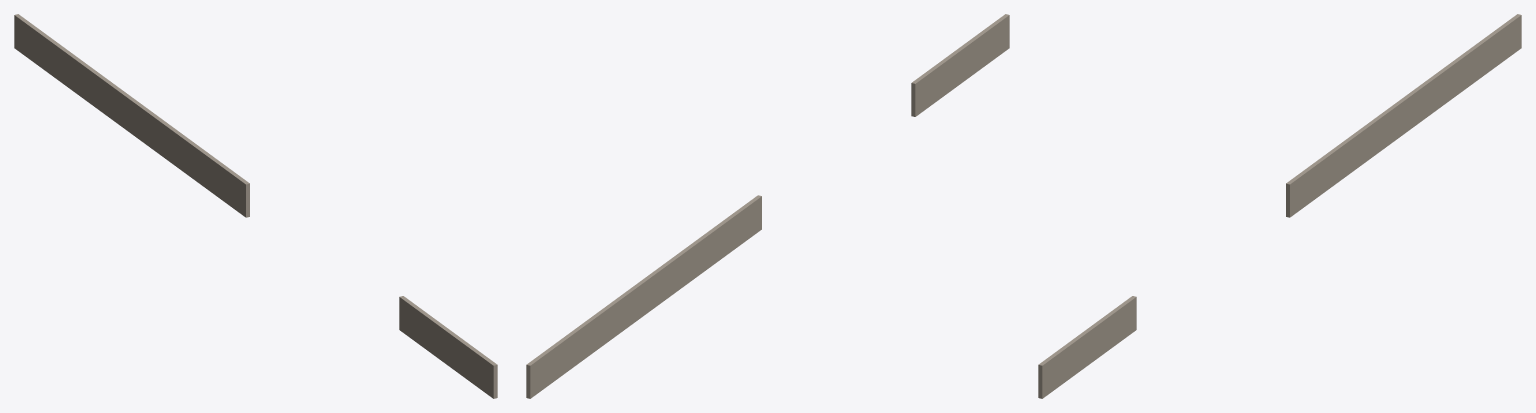
File: SM_Skirting_Bath_East_001.fbx
3 renders of one model, left to right at view 1: azimuth 30°, elevation 25°; view 2: azimuth 150°, elevation 25°; view 3: azimuth 330°, elevation 25°, orthographic.
Parts seen in each view (by area): view 1: SM_Skirting_Bath_East_001; view 2: SM_Skirting_Bath_East_001; view 3: SM_Skirting_Bath_East_001.
Boxes of the visible parts, <box> form: SM_Skirting_Bath_East_001: <box>14,14,497,398</box>; SM_Skirting_Bath_East_001: <box>526,14,1009,398</box>; SM_Skirting_Bath_East_001: <box>1038,14,1521,398</box>.
Size of the model in its own units: 1.4 by 11 by 288.
